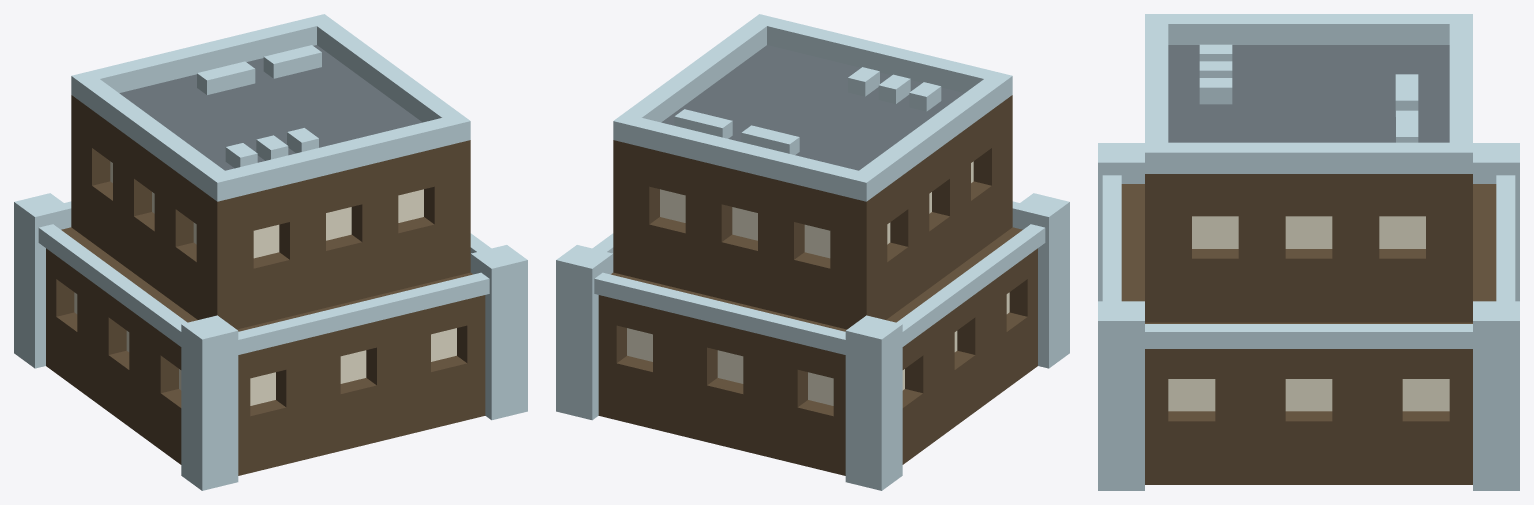
The model's file is Building_6_Extra (Brown).obj.
The picture shows the model from 3 angles, left to right: view 1: azimuth 30°, elevation 25°; view 2: azimuth 150°, elevation 25°; view 3: azimuth 270°, elevation 25°; orthographic projection. The views are drawn at different scales.
Visible parts, largest first — view 1: Building_6_Extra_(Brown); view 2: Building_6_Extra_(Brown); view 3: Building_6_Extra_(Brown).
Boxes of the visible parts, bbox=[...] form: Building_6_Extra_(Brown): bbox=[14, 14, 527, 490]; Building_6_Extra_(Brown): bbox=[556, 14, 1069, 490]; Building_6_Extra_(Brown): bbox=[1098, 14, 1519, 490].
Size of the model in its own units: 1.8 by 1.5 by 1.8.
